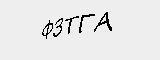А: (93, 11, 115, 36)
Г: (77, 13, 94, 37)
З: (53, 17, 65, 41)
Т: (62, 13, 79, 36)
Ф: (41, 18, 54, 44)
